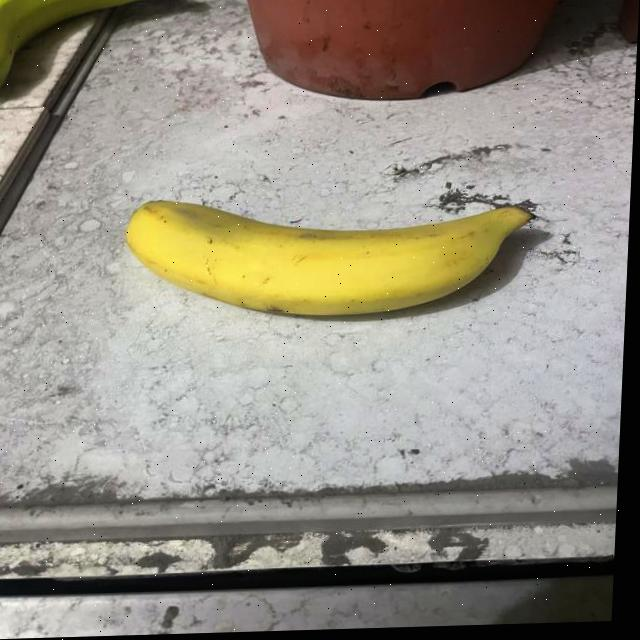banana: (121, 190, 543, 326)
